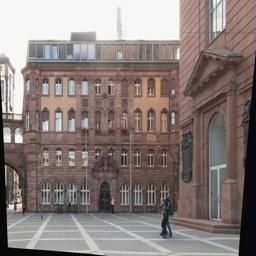building: (20, 26, 180, 227)
